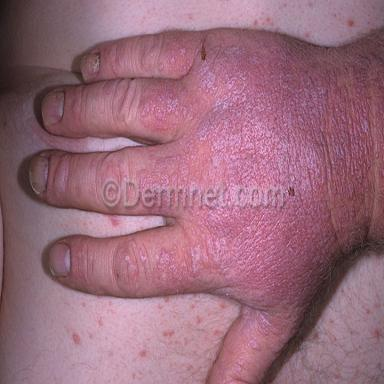lichen: (137, 32, 384, 355), (56, 155, 69, 191), (106, 80, 117, 95)
